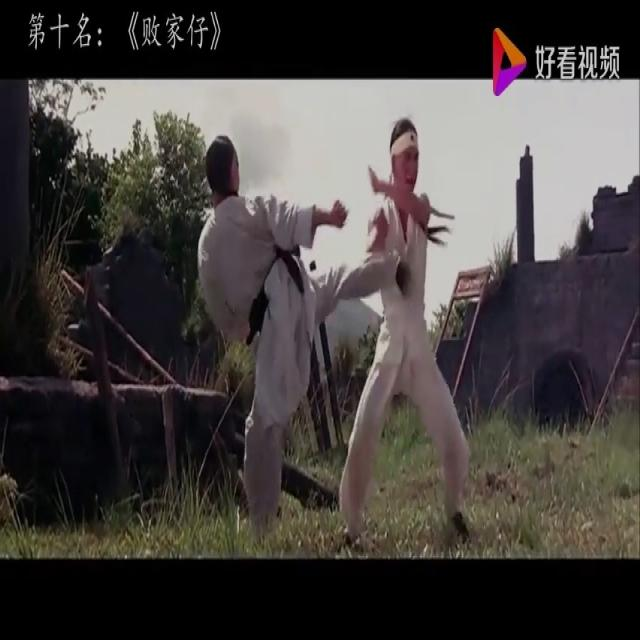fight: (190, 113, 474, 548)
